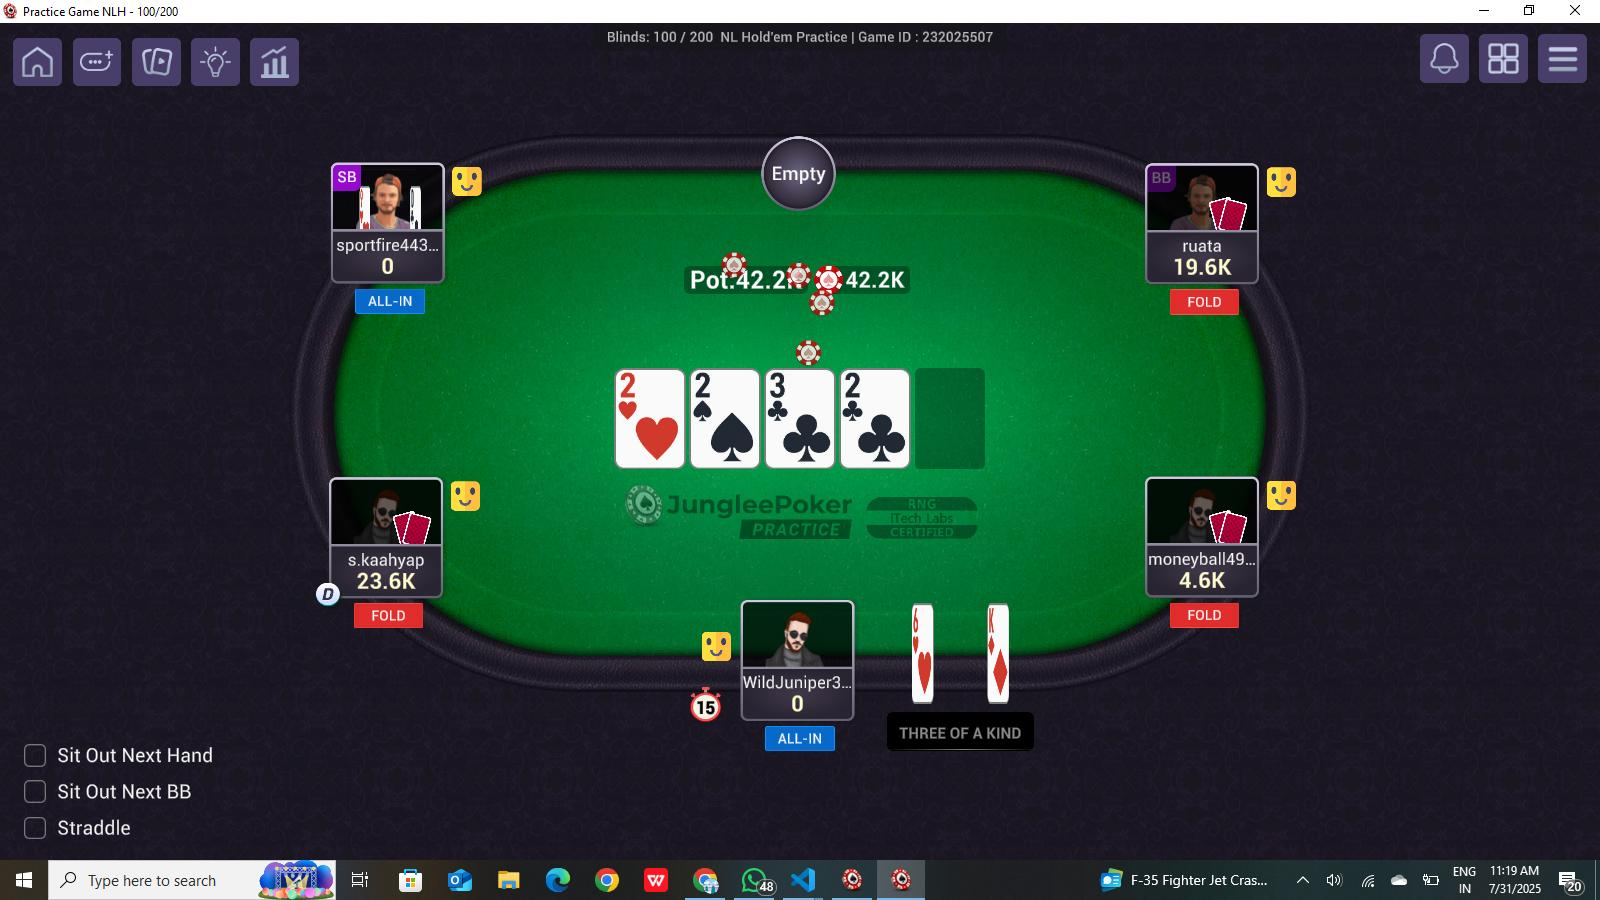flop1_rank: (616, 368, 664, 407)
flop1_suite_heart: (622, 402, 684, 467)
flop2_rank: (693, 371, 738, 403)
flop2_suite_spades: (705, 405, 758, 467)
flop3_rank: (768, 370, 805, 402)
flop3_suite_club: (780, 412, 833, 467)
my_stack: (746, 687, 845, 719)
position_BB: (1145, 165, 1178, 191)
position_SB: (333, 165, 367, 190)
turn_rank: (842, 368, 880, 402)
turn_suite_club: (852, 409, 907, 467)
villian1_name: (330, 543, 445, 570)
villian1_stack: (345, 571, 422, 593)
villian2_name: (333, 232, 445, 255)
villian2_stack: (360, 255, 422, 280)
villian4_name: (1146, 233, 1262, 255)
villian4_stack: (1168, 255, 1242, 281)
villian5_name: (1143, 551, 1264, 568)
villian5_stack: (1162, 567, 1240, 598)
